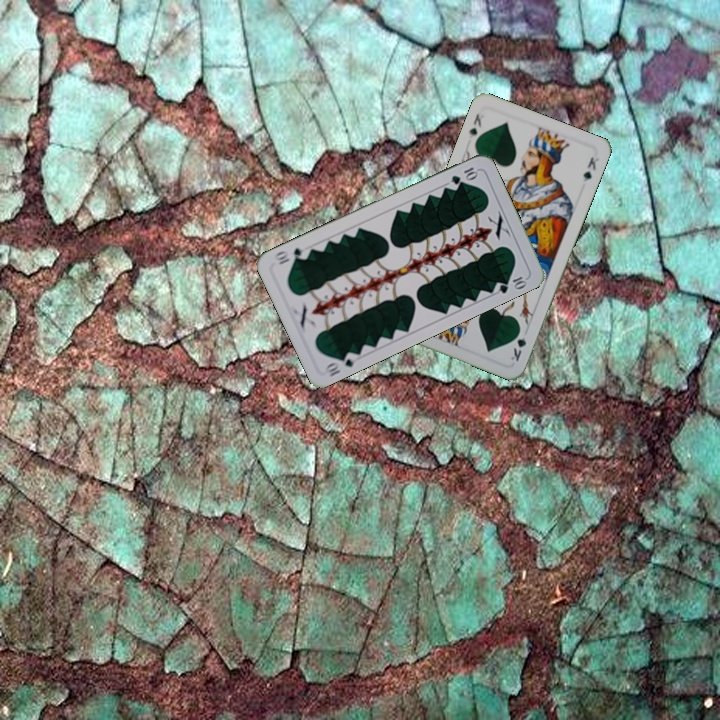G10: (320, 348, 361, 379), (447, 163, 480, 187)
GK: (506, 324, 529, 364), (465, 110, 484, 141)
